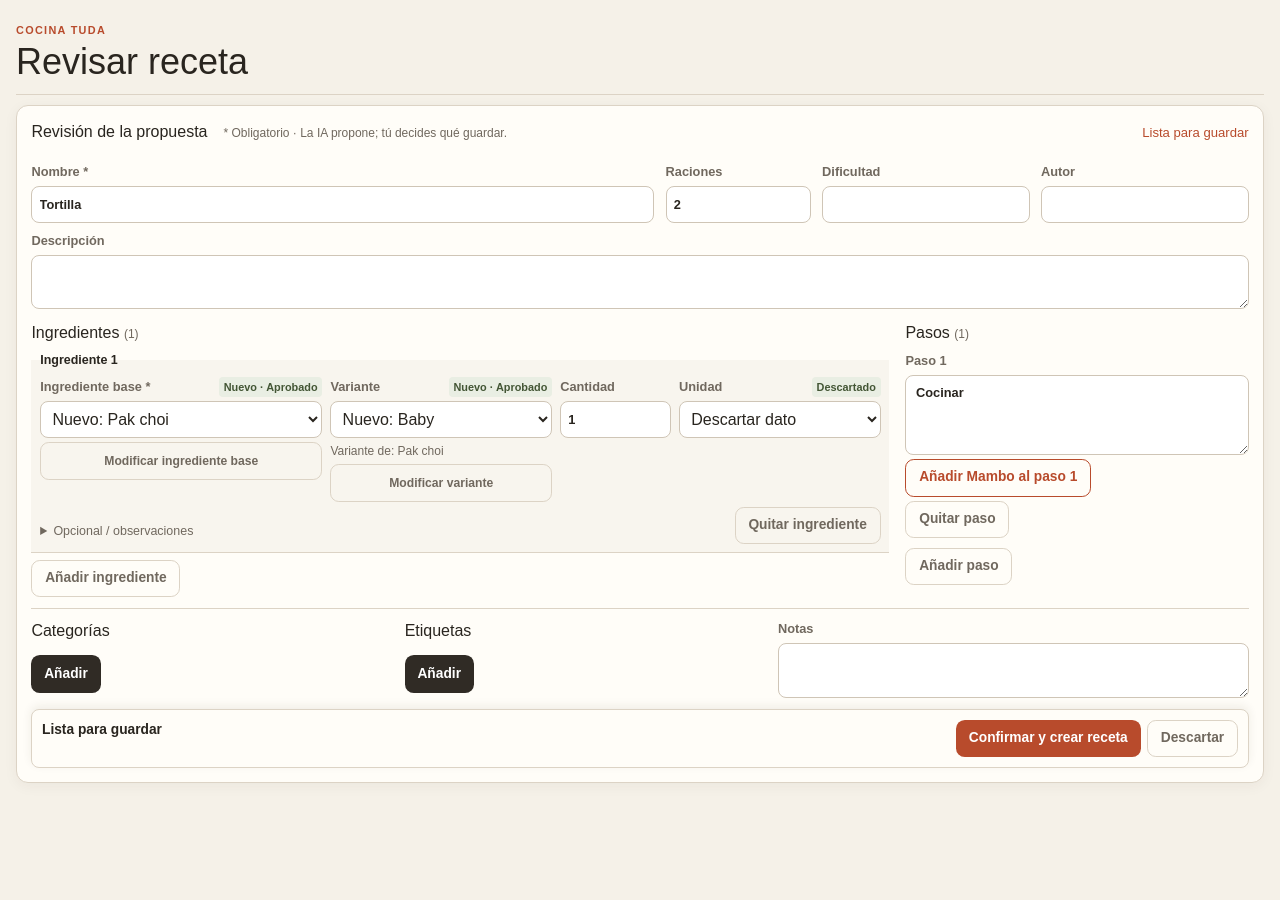
ImportWorkspace › requires variant reapproval when its base changes
Check: the button "Confirmar y crear receta" is enabled, box [956,720,1141,757]
Select "Tomate" in the dropdown named "Ingrediente base". click: (181, 420)
box: [40,401,322,438]
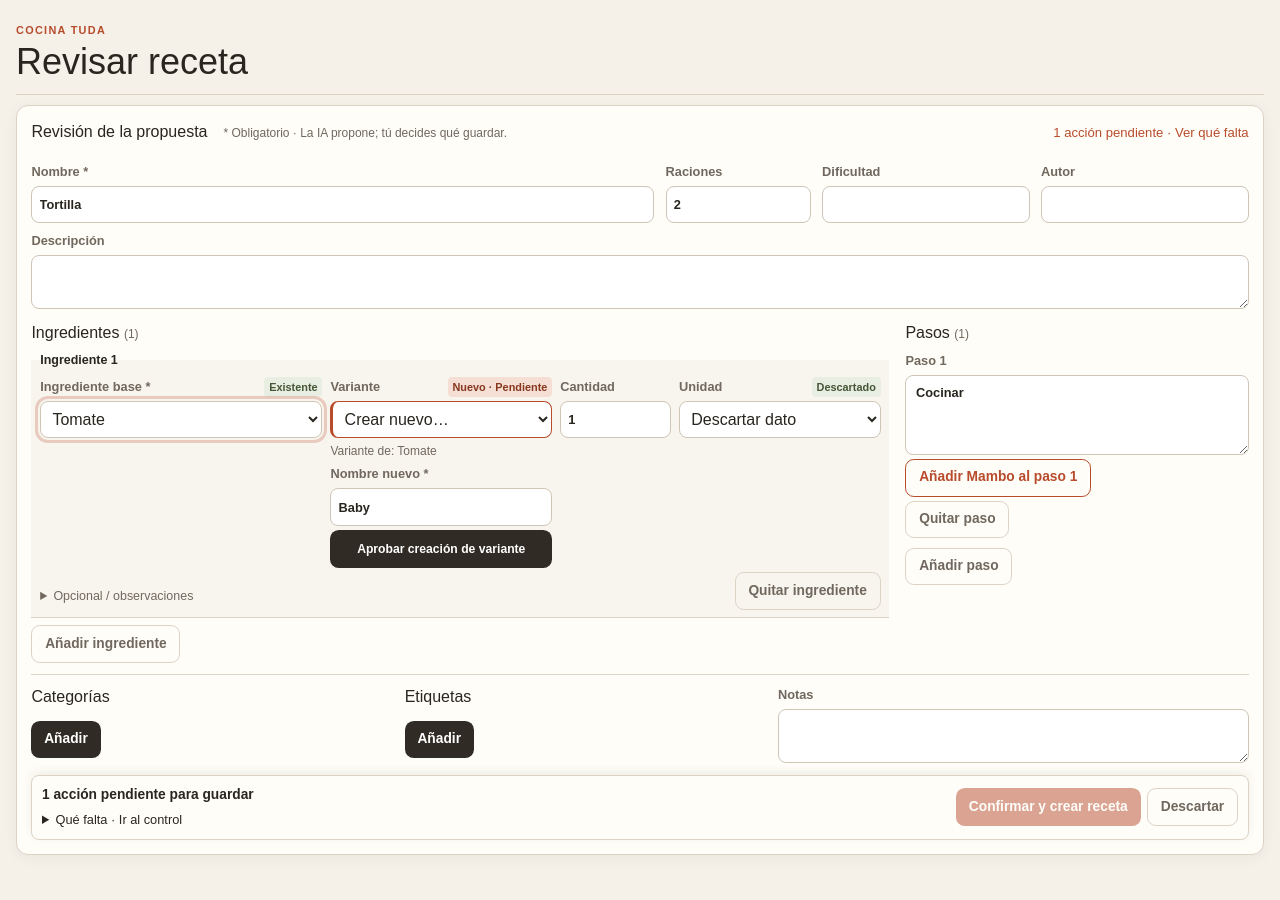
Check: the button "Confirmar y crear receta" is disabled, box [956,788,1141,826]
Check: the text "Variante de:" shows "Tomate", box [397,444,437,458]
Click the button "Aprobar creación de variante". click: (441, 549)
box: [330,530,552,568]
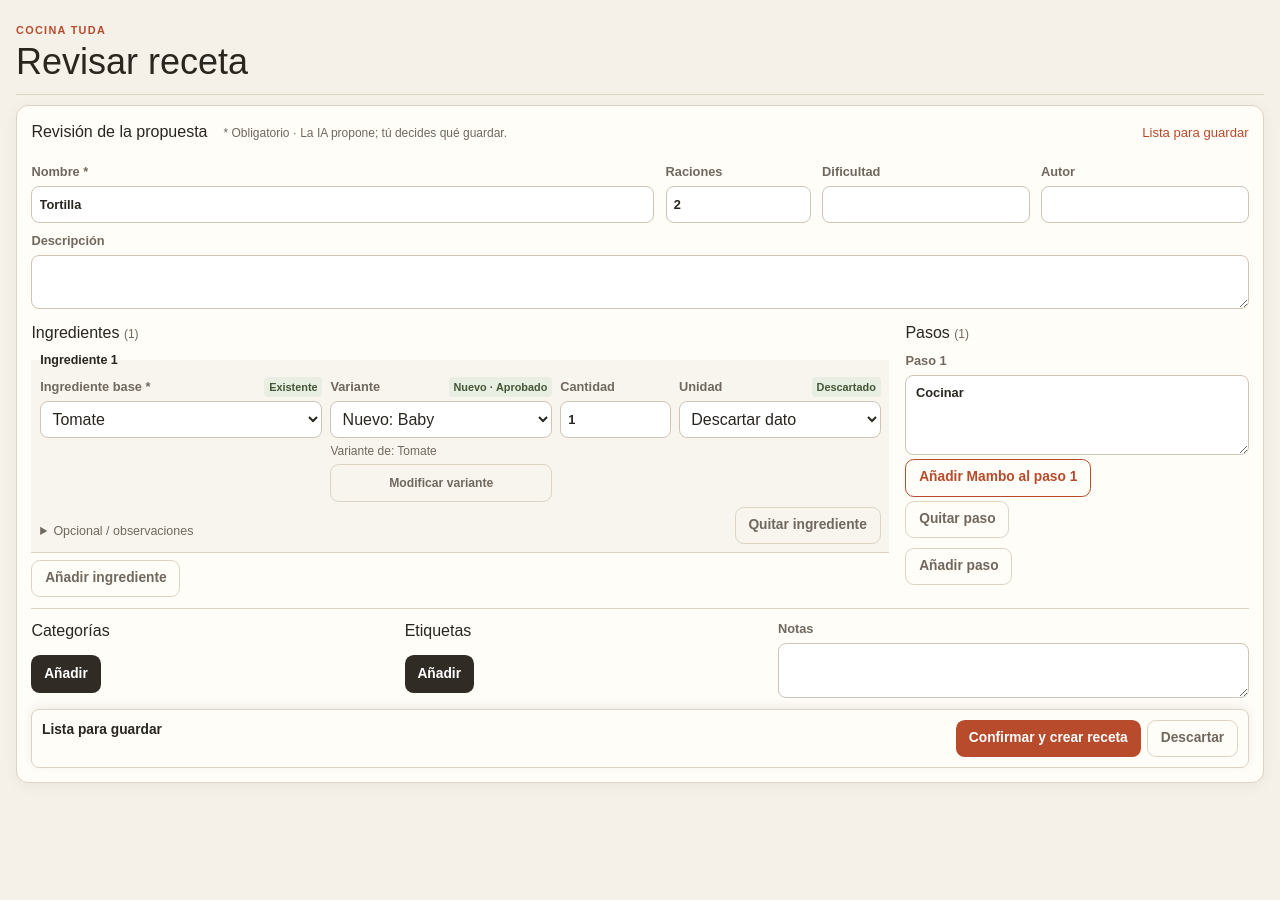
Check: the button "Confirmar y crear receta" is enabled, box [956,720,1141,757]
